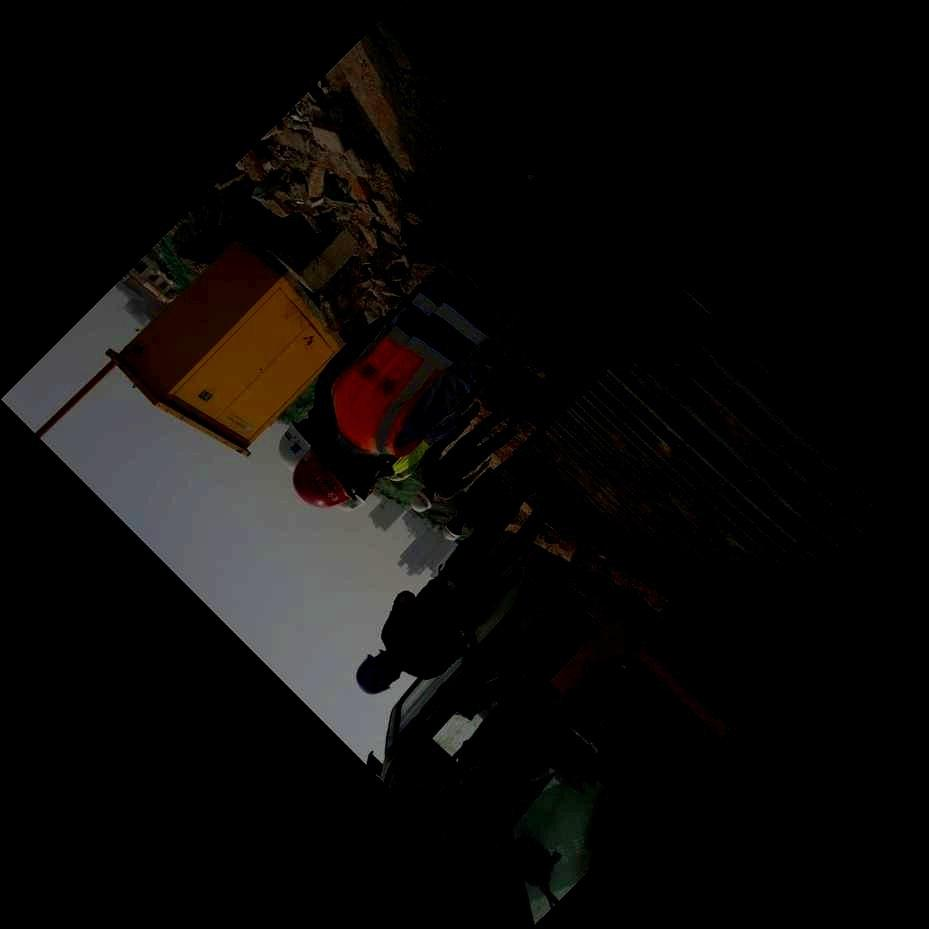helmet: (292, 434, 367, 509), (276, 417, 320, 472), (355, 649, 402, 695), (340, 485, 380, 511)
